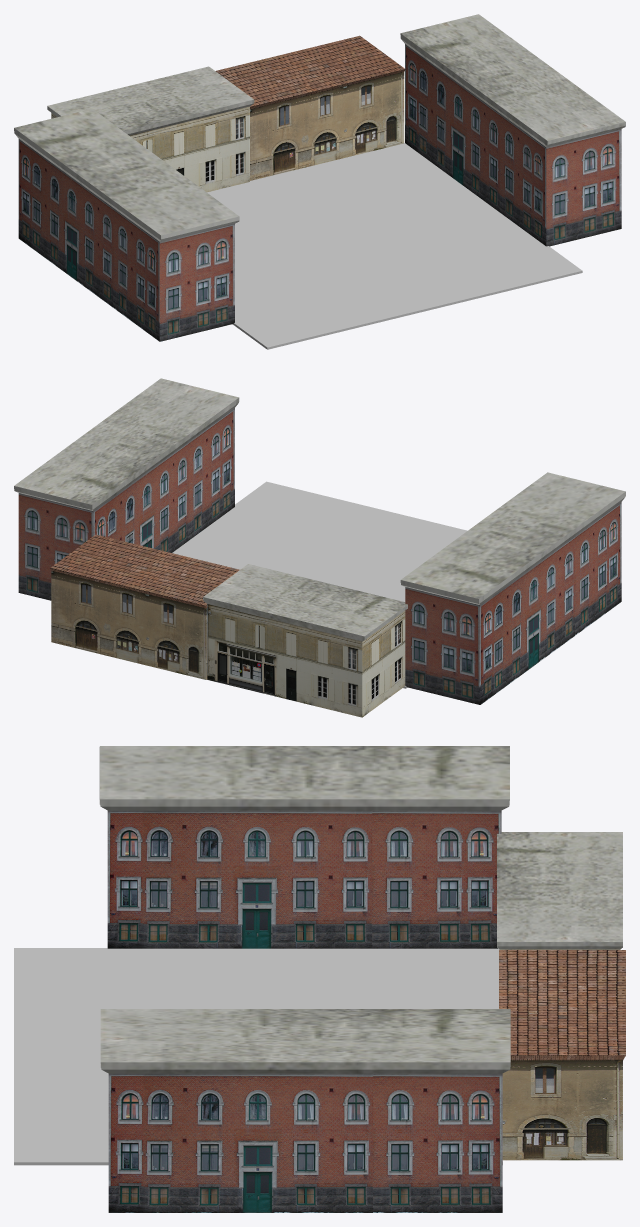
Rendered from Exterior.FBX.
3 renders of one model, top to bottom at view 1: azimuth 30°, elevation 25°; view 2: azimuth 150°, elevation 25°; view 3: azimuth 270°, elevation 25°, orthographic. The views are drawn at different scales.
Parts seen in each view (by area): view 1: Exterior; view 2: Exterior; view 3: Exterior.
Boxes of the visible parts, x1,y1,x2,y2 form: Exterior: [14, 14, 625, 349]; Exterior: [14, 378, 625, 717]; Exterior: [14, 746, 625, 1212].
Size of the model in its own units: 3445 by 779 by 2816.
